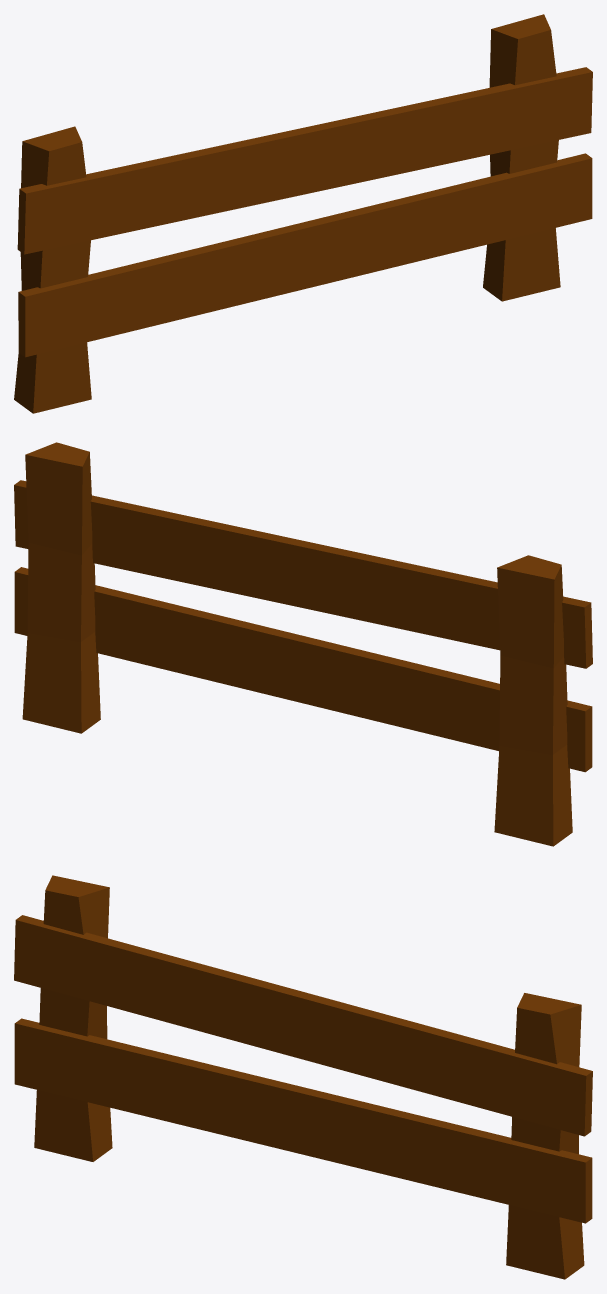
File: Cerca.fbx
The picture shows the model from 3 angles, top to bottom: view 1: azimuth 30°, elevation 25°; view 2: azimuth 150°, elevation 25°; view 3: azimuth 330°, elevation 25°; orthographic projection.
Parts seen in each view (by area): view 1: Cube.014; view 2: Cube.014; view 3: Cube.014.
Part boxes in pixels (x1,y1,x2,y2): Cube.014: (14, 14, 592, 413); Cube.014: (14, 442, 592, 846); Cube.014: (14, 875, 592, 1279).
Size of the model in its own units: 279 by 124 by 21.09.
